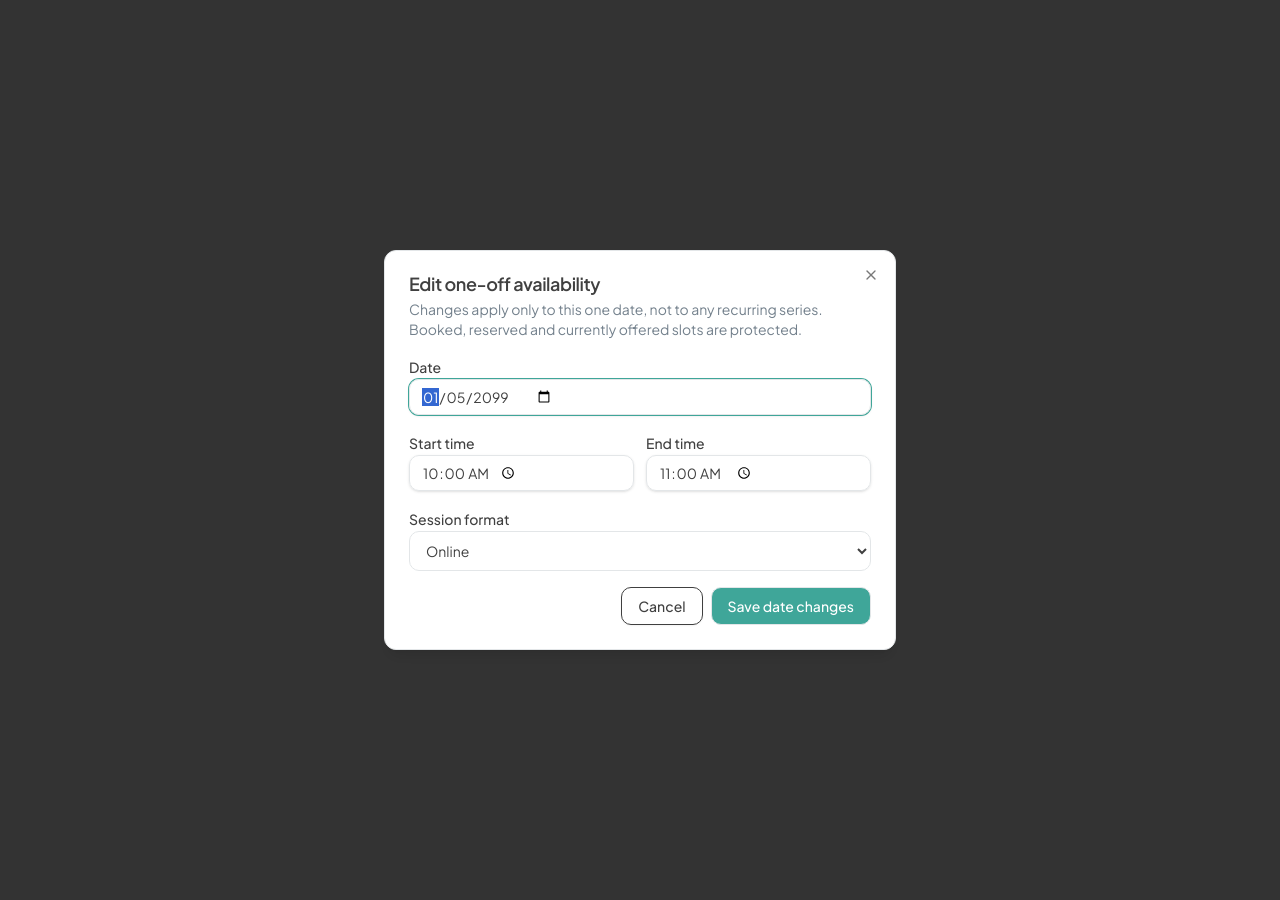
distinguishes a single date and validates times before sending
expect the text "only to this one date" is shown: met, box 409,300 -> 822,318
Replace the text in the time field labelled "End time" with "09:00" at (758, 473), box 646,455 -> 871,491
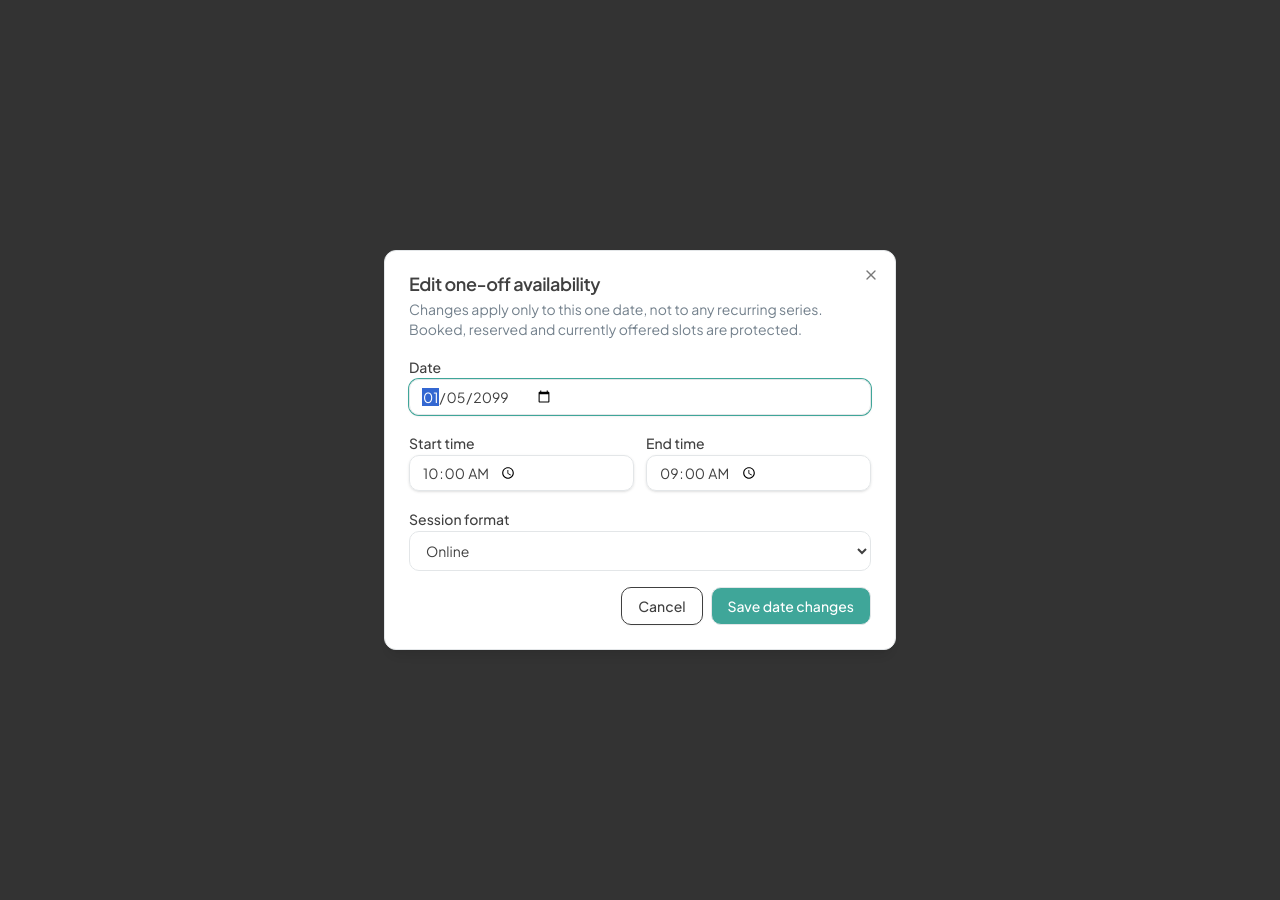
Click the button "Save date changes" at (791, 606), box 711,587 -> 871,625
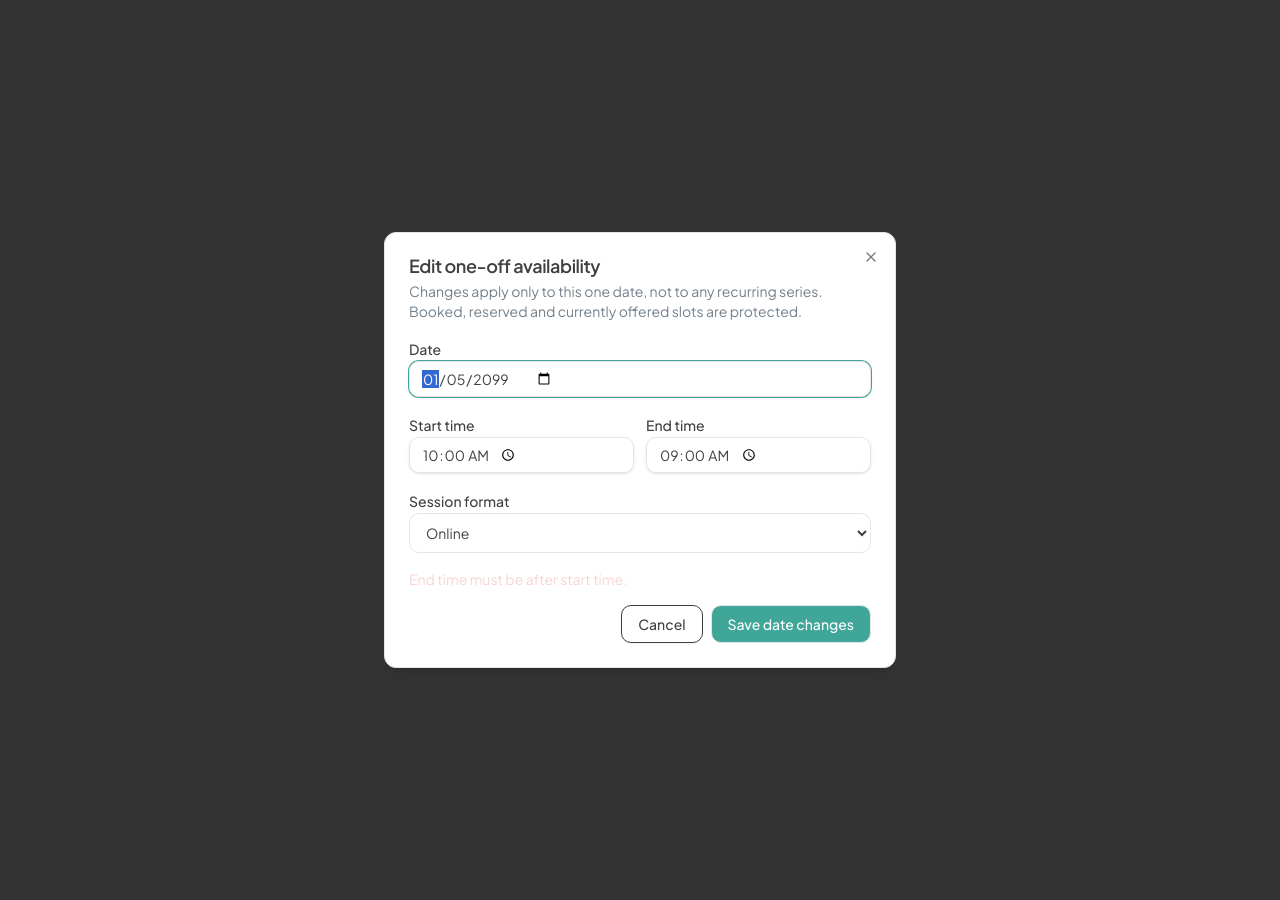
expect the message reads "End time must be after start time.": met, box 409,570 -> 627,588
